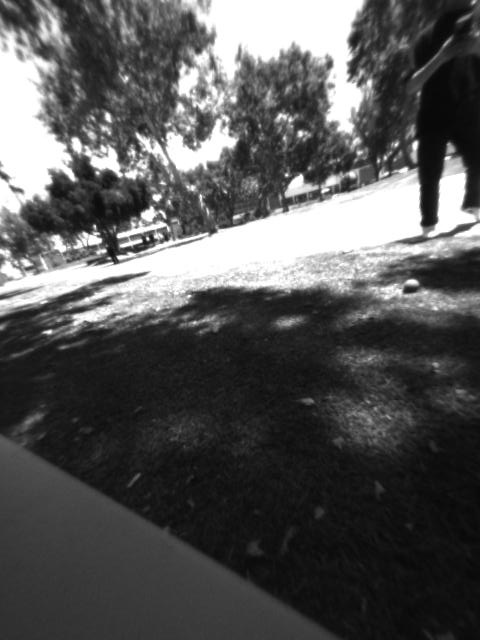dogtoy: (392, 272, 434, 304)
